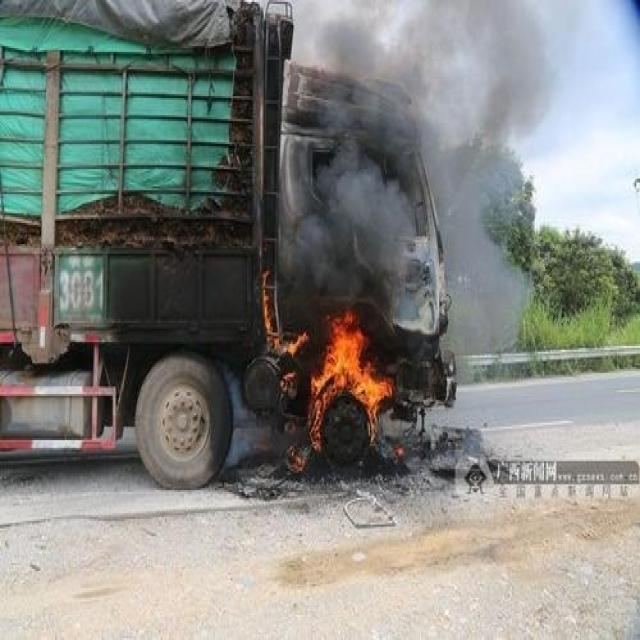Fire: (260, 265, 404, 473)
Smoke: (278, 2, 560, 382)
